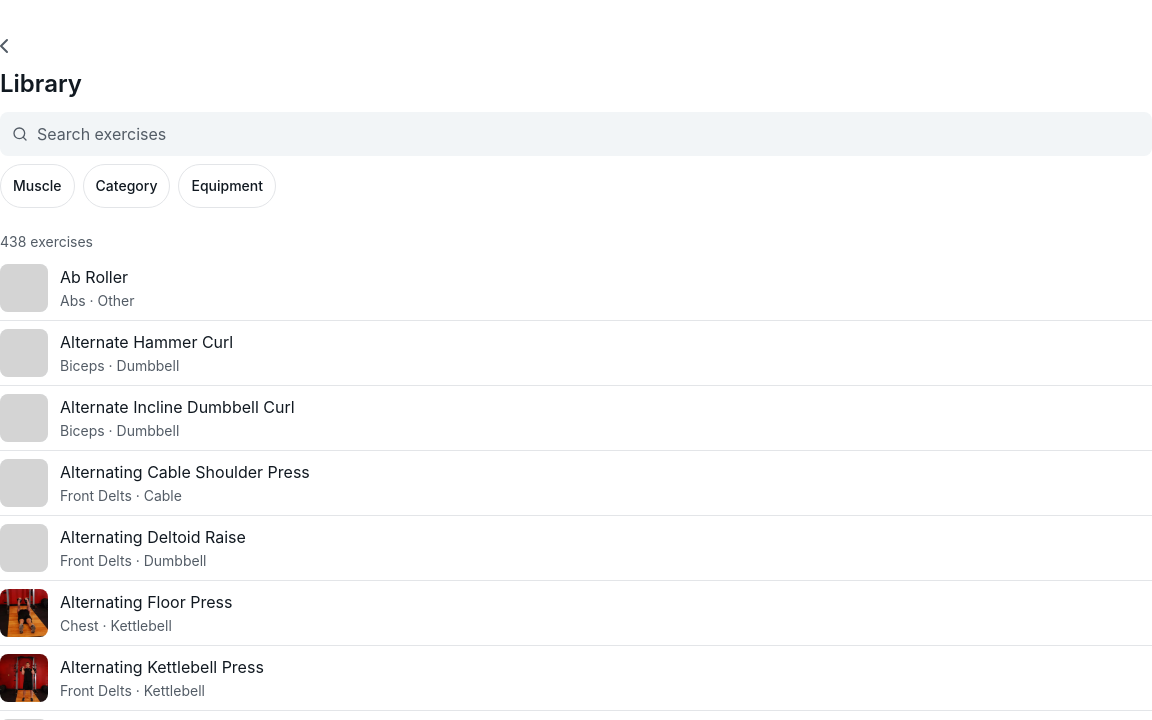
LibraryPage › filters via the Category sheet (category facet path)
This screenshot has width=1152, height=720.
Click the button "Category" at [127, 186], box [84,165,170,207]
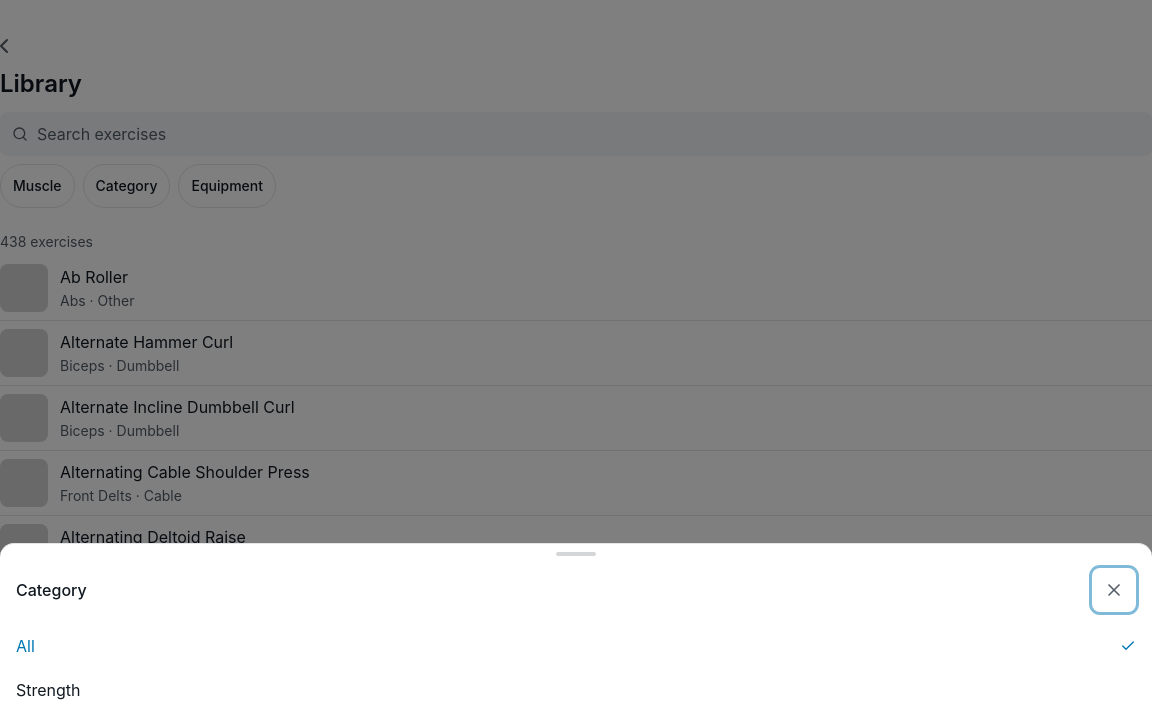
Click the button "Strength" at [48, 690], box [0,668,1151,712]
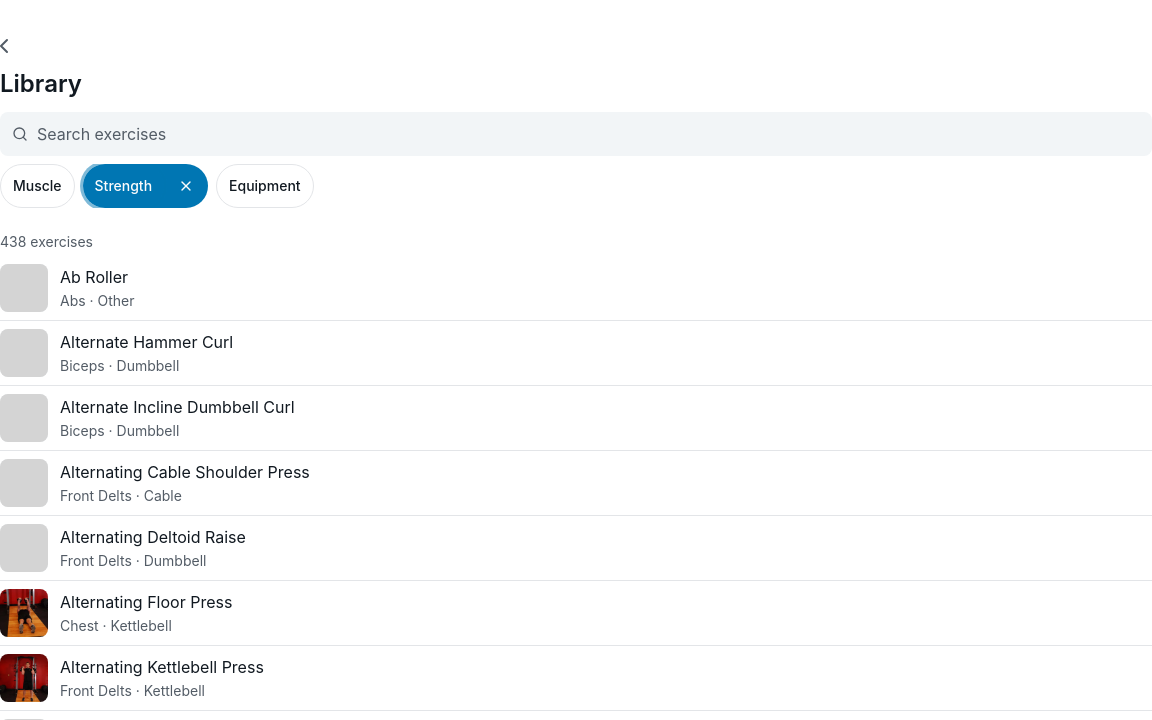
Expected: the button "Strength" is shown, [83,164,164,208]
